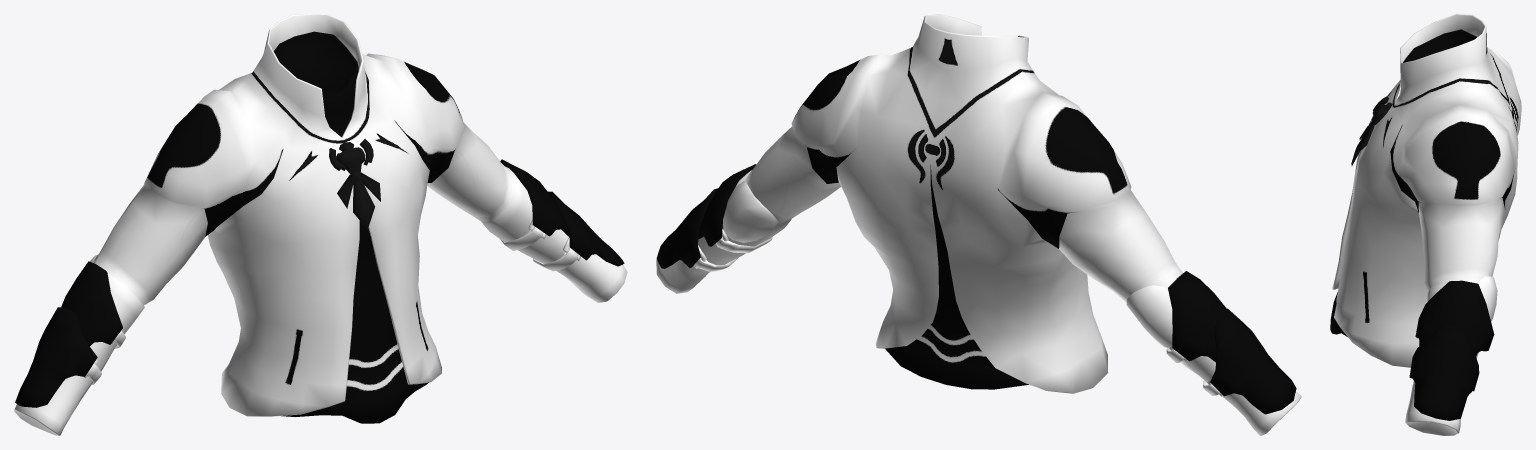
Rendered from SurvivorMale_Chest_Shirt_AssassinOutfit_LOD0.glb.
The picture shows the model from 3 angles, left to right: view 1: azimuth 30°, elevation 25°; view 2: azimuth 150°, elevation 25°; view 3: azimuth 270°, elevation 25°; orthographic projection. The views are drawn at different scales.
Parts seen in each view (by area): view 1: Hoodie; view 2: Hoodie; view 3: Hoodie.
Part boxes in pixels (bbox=[...]): Hoodie: bbox=[14, 14, 627, 435]; Hoodie: bbox=[656, 14, 1301, 435]; Hoodie: bbox=[1330, 14, 1521, 435].
Bounding box in the file's own units: 1.13 × 0.6191 × 0.3521.
Materials: 1 (1 with a texture image).
